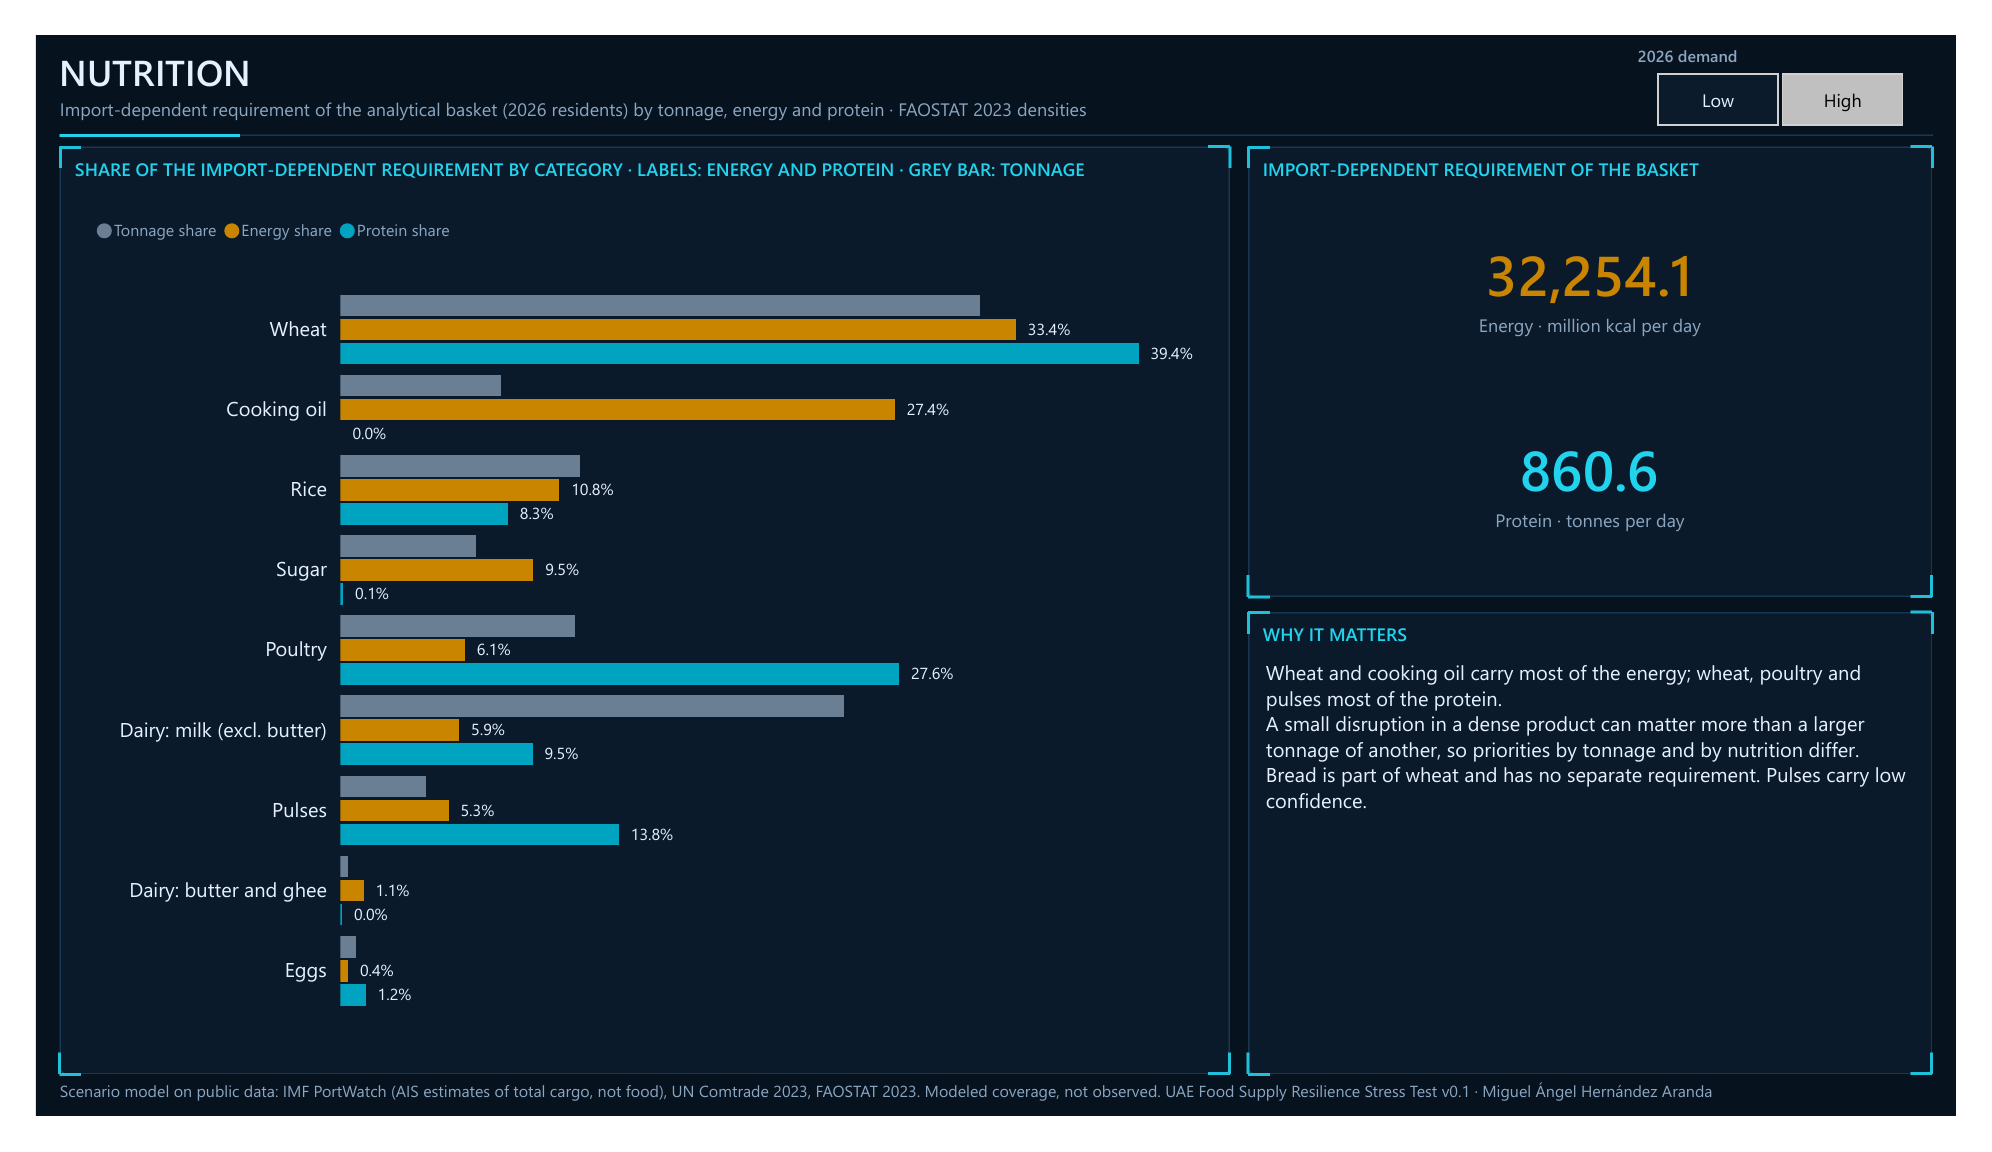

The page's visual inventory and layout, read from the dashboard file:
{"tool":"powerbi","page":{"name":"Nutrition","canvas":[1280,720],"ordinal":5},"visuals":[{"type":"textbox","box":[16,8,840,34],"z":0},{"type":"textbox","box":[16,40,840,22],"z":1000},{"type":"textbox","box":[16,694,1248,24],"z":2000},{"type":"slicer","fields":{"Values":["demand_levels.demand"]},"box":[1060,6,204,56],"z":3000},{"type":"textbox","box":[26,80,760,26],"z":4000},{"type":"clusteredBarChart","fields":{"Category":["categories.category"],"Y":["_Measures.Tonnage share","_Measures.Energy share","_Measures.Protein share"]},"box":[24,102,764,582],"z":5000},{"type":"textbox","box":[818,80,436,26],"z":6000},{"type":"card","fields":{"Values":["_Measures.Import-dependent energy (million kcal/d)"]},"box":[820,108,432,120],"z":7000},{"type":"card","fields":{"Values":["_Measures.Import-dependent protein (t/d)"]},"box":[820,238,432,120],"z":8000},{"type":"textbox","box":[818,390,436,26],"z":9000},{"type":"textbox","box":[820,416,432,264],"z":10000}]}

Visuals, with their boxes in screenshot pixels (x1, y1, x2, y2), scaled from the page's 1280x720 canvas onto the 1992x1152 screenshot:
textbox: [left=25, top=13, right=1332, bottom=67]
textbox: [left=25, top=64, right=1332, bottom=99]
textbox: [left=25, top=1110, right=1967, bottom=1149]
slicer - demand_levels.demand: [left=1650, top=10, right=1967, bottom=99]
textbox: [left=40, top=128, right=1223, bottom=170]
clusteredBarChart - categories.category x _Measures.Tonnage share: [left=37, top=163, right=1226, bottom=1094]
textbox: [left=1273, top=128, right=1952, bottom=170]
card - _Measures.Import-dependent energy (million kcal/d): [left=1276, top=173, right=1948, bottom=365]
card - _Measures.Import-dependent protein (t/d): [left=1276, top=381, right=1948, bottom=573]
textbox: [left=1273, top=624, right=1952, bottom=666]
textbox: [left=1276, top=666, right=1948, bottom=1088]
